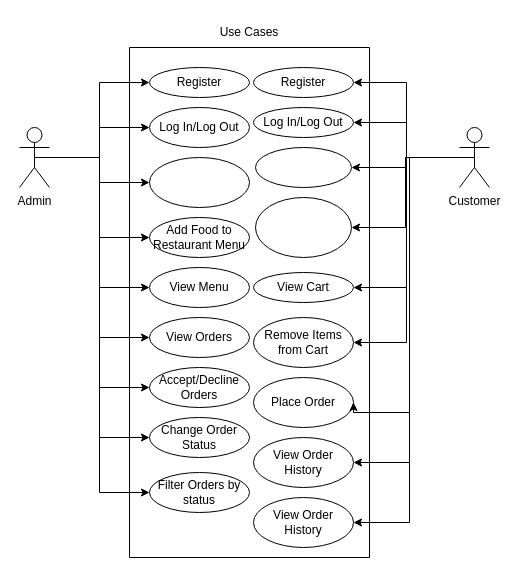
The diagram is 517 pixels wide and 575 high, and some of its shapes have lost their labels. The centre of each missing label's shape, as x and y in pixels:
"Add Food from one Restaurant to Cart" belongs at pixel 303 227.
"Create new Restaurant" belongs at pixel 199 182.
"Search For Restaurant" belongs at pixel 303 167.
